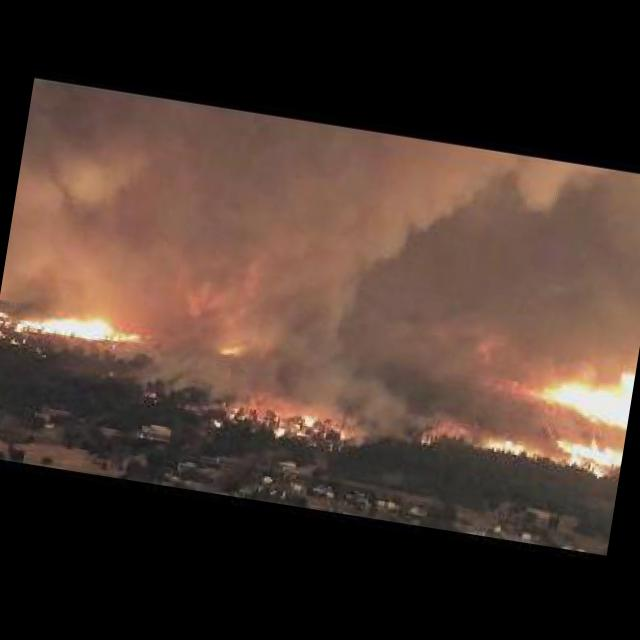fire: (531, 354, 636, 431), (14, 302, 144, 350), (548, 432, 624, 480), (484, 432, 530, 454), (300, 410, 316, 426), (0, 308, 11, 328), (221, 344, 239, 356), (273, 426, 287, 438)
smoke: (268, 344, 427, 427), (419, 368, 534, 438), (137, 324, 220, 404), (209, 362, 269, 411)
